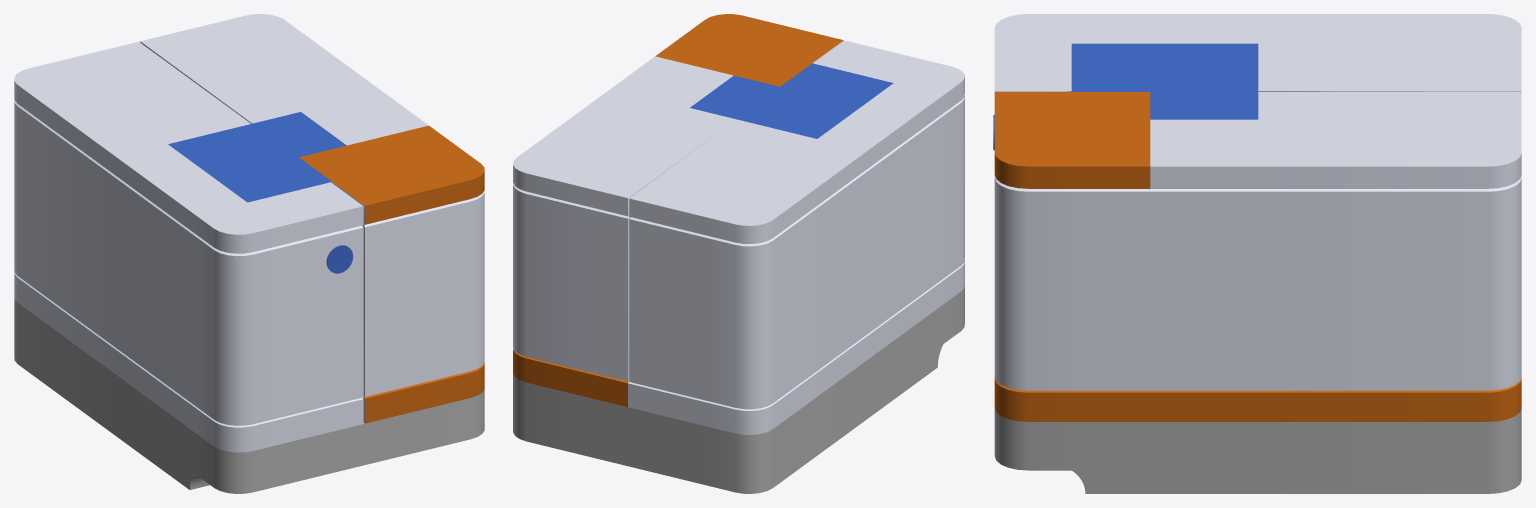
3 renders of one model, left to right at view 1: azimuth 30°, elevation 25°; view 2: azimuth 150°, elevation 25°; view 3: azimuth 270°, elevation 25°, orthographic. The views are drawn at different scales.
Visible parts, largest first — view 1: 150; view 2: 150; view 3: 150.
Part boxes in pixels (x1,y1,x2,y2): 150: (14,14,484,493); 150: (513,14,964,493); 150: (993,14,1521,493).
Bounding box in the file's own units: 105 × 109 × 153.
